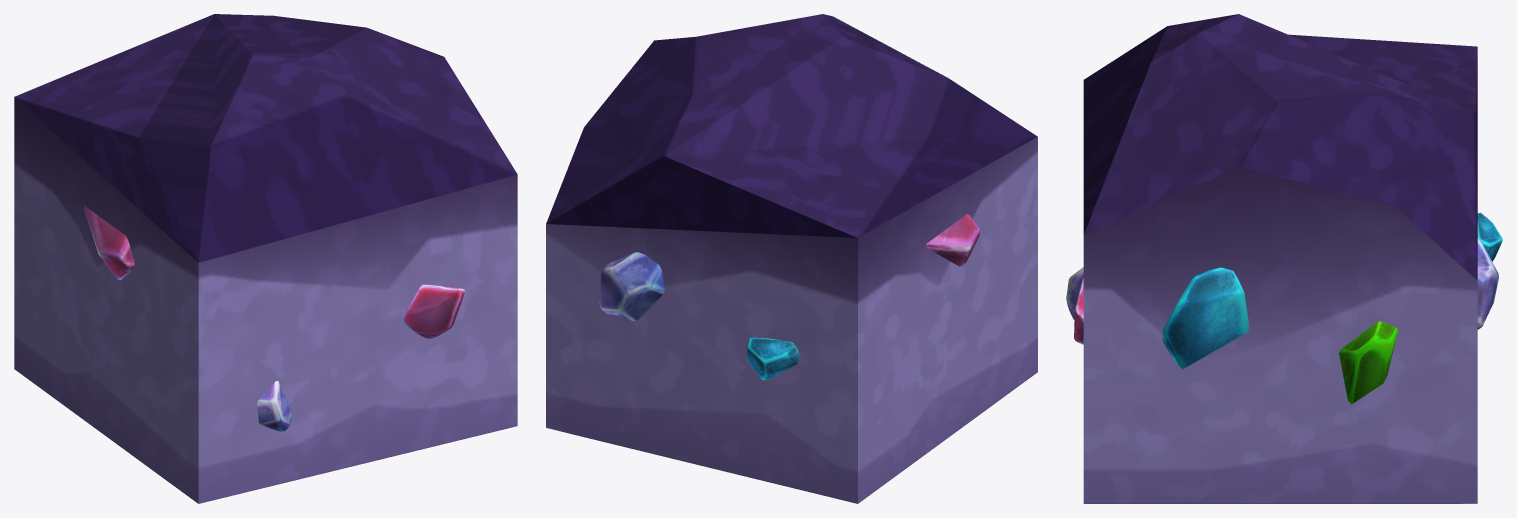
File: Rock_03_004.fbx
3 renders of one model, left to right at view 1: azimuth 30°, elevation 25°; view 2: azimuth 150°, elevation 25°; view 3: azimuth 270°, elevation 25°, orthographic. The views are drawn at different scales.
Visible parts, largest first — view 1: Rock_03_004, GemStone301, GemStone300, GemStone201; view 2: Rock_03_004, GemStone200, GemStone100, GemStone300; view 3: Rock_03_004, GemStone101, GemStone4, GemStone200, GemStone100, GemStone201, GemStone301.
Boxes of the visible parts, x1,y1,x2,y2 form: Rock_03_004: (14,14,517,503); GemStone301: (402,284,464,338); GemStone300: (84,205,134,279); GemStone201: (257,381,292,432); Rock_03_004: (546,14,1037,503); GemStone200: (599,252,664,321); GemStone100: (747,337,798,380); GemStone300: (926,214,979,266); Rock_03_004: (1083,14,1477,503); GemStone101: (1162,267,1248,369); GemStone4: (1339,321,1397,404); GemStone200: (1477,235,1498,329); GemStone100: (1477,212,1502,261); GemStone201: (1066,267,1083,320); GemStone301: (1074,278,1083,344).
Size of the model in its own units: 221 by 219 by 222.
Materials: 5 (5 with a texture image).
